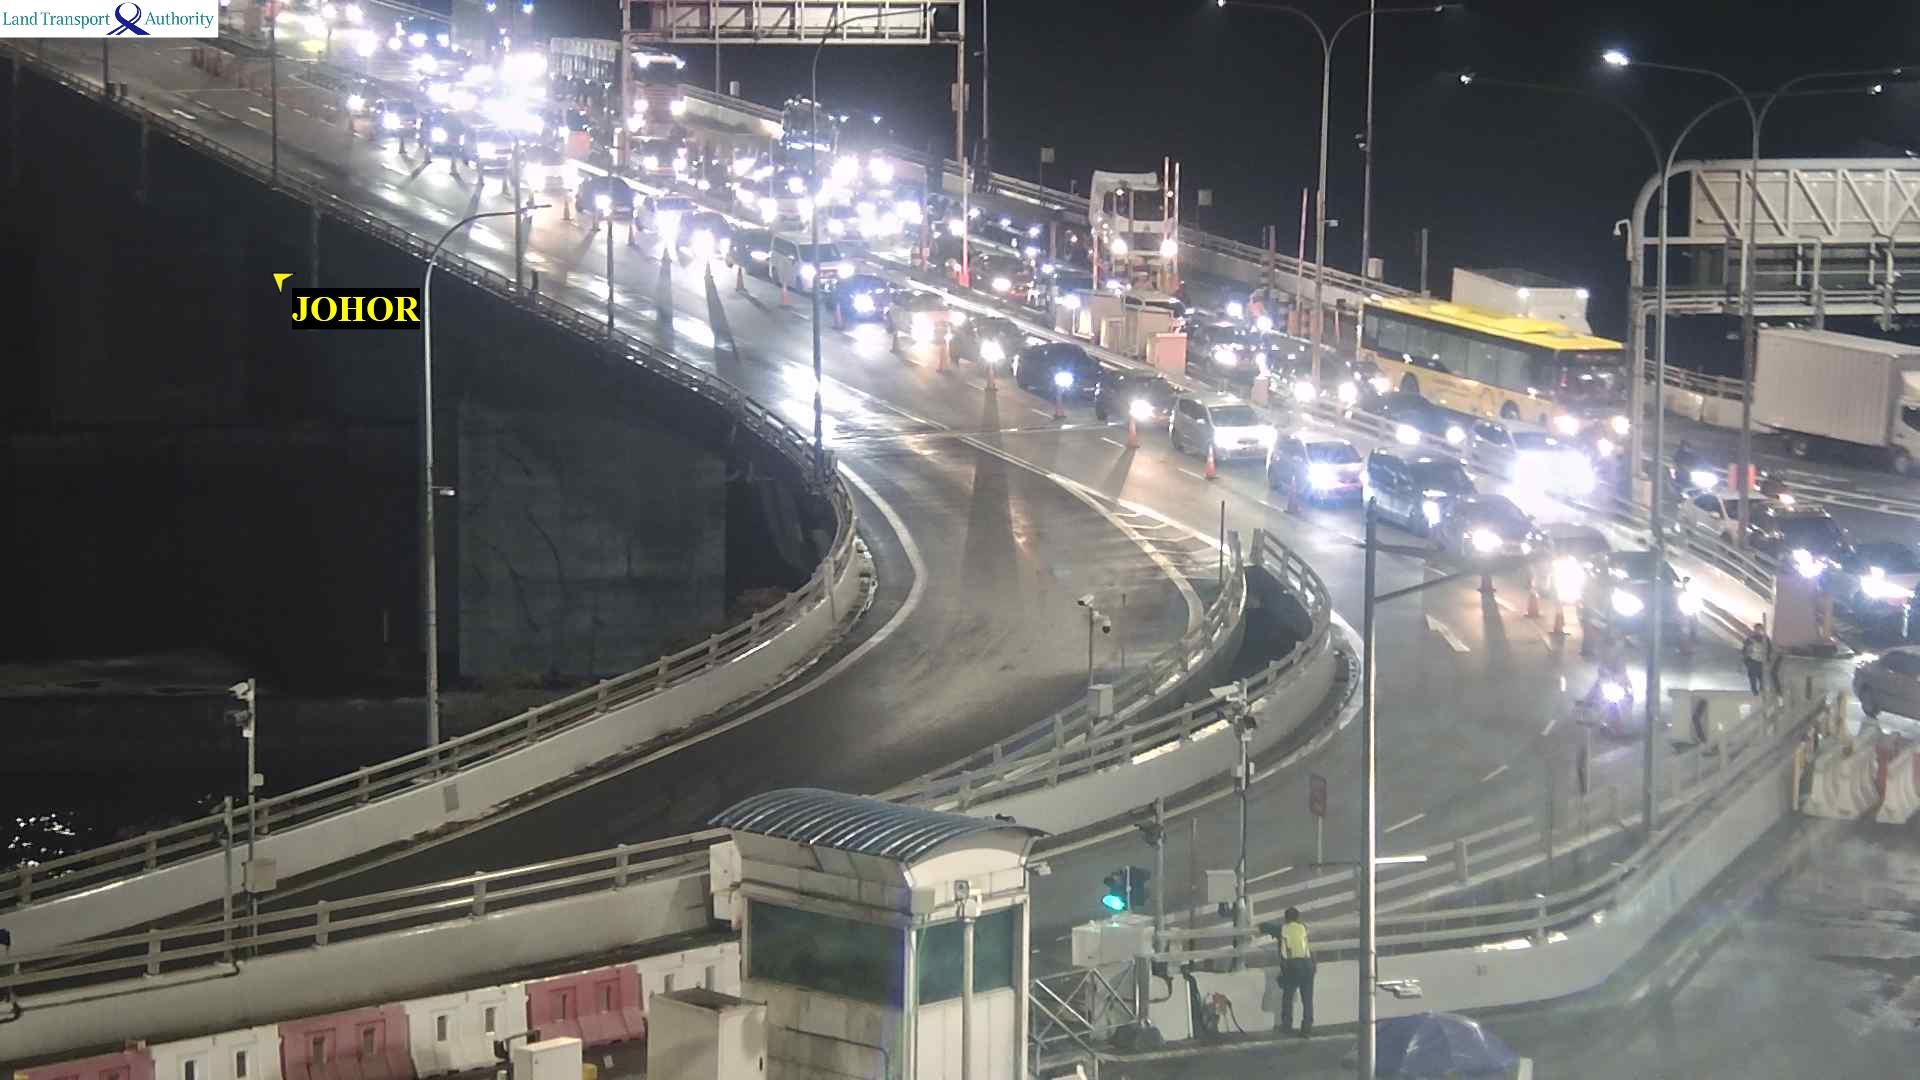vehicle-secondlink-singapore: (1365, 320, 1622, 430), (670, 82, 907, 183), (1758, 345, 1913, 487), (550, 40, 688, 120), (1822, 534, 1920, 644), (1580, 554, 1697, 641), (1451, 266, 1592, 331), (1747, 504, 1867, 579), (1160, 397, 1292, 464), (1456, 425, 1578, 488), (1092, 178, 1166, 265), (1494, 524, 1618, 572), (1011, 343, 1101, 409), (1259, 440, 1357, 500), (1374, 392, 1465, 452), (451, 3, 534, 61), (771, 229, 851, 289), (1270, 348, 1353, 404), (1685, 493, 1780, 539), (1098, 371, 1172, 425), (1185, 320, 1254, 375), (889, 287, 963, 338), (953, 319, 1025, 369), (1676, 443, 1727, 506), (831, 274, 898, 313), (971, 248, 1031, 290), (578, 171, 633, 216), (509, 146, 566, 189), (467, 125, 521, 169), (419, 108, 476, 149), (638, 191, 692, 232), (678, 211, 733, 251), (733, 225, 782, 266), (401, 16, 450, 57), (754, 181, 808, 214), (372, 99, 419, 132)
